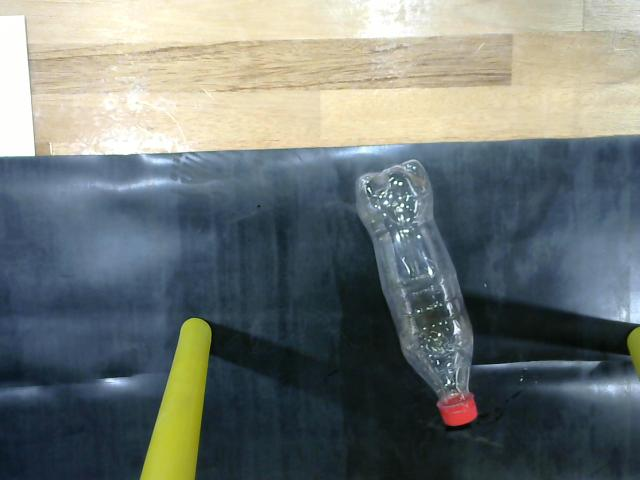bottle: (354, 153, 488, 436)
